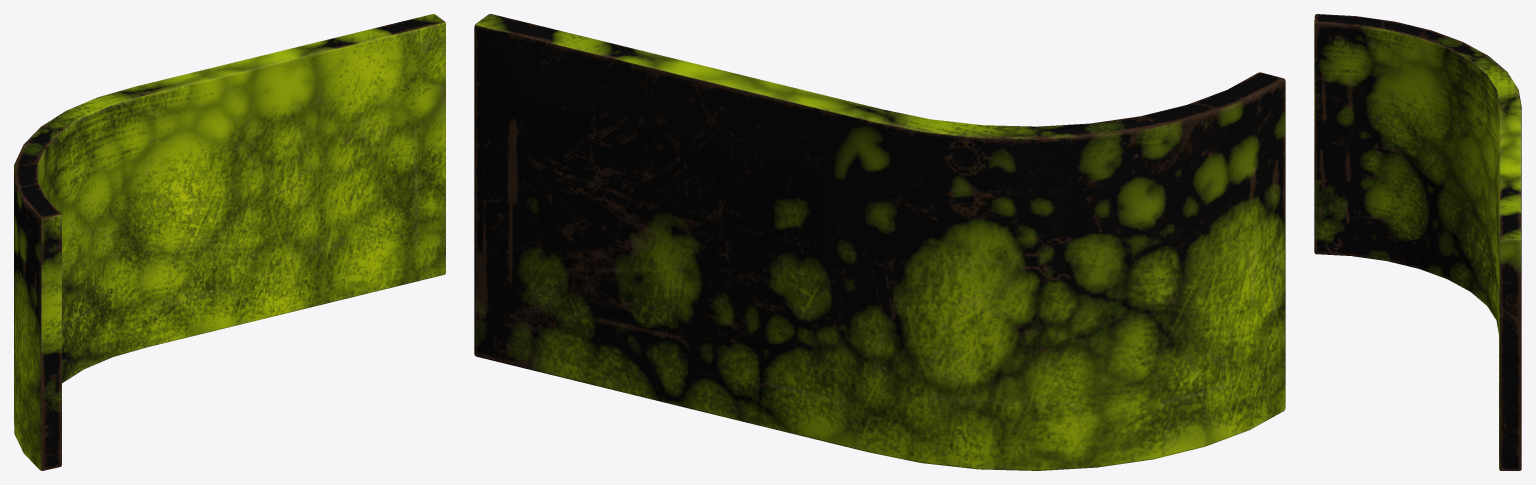
Rendered from geo__curved_wall__low.glb.
The picture shows the model from 3 angles, left to right: view 1: azimuth 30°, elevation 25°; view 2: azimuth 150°, elevation 25°; view 3: azimuth 270°, elevation 25°; orthographic projection. The views are drawn at different scales.
Parts seen in each view (by area): view 1: GEO_CurvedWall_1; view 2: GEO_CurvedWall_1; view 3: GEO_CurvedWall_1.
Part boxes in pixels (left/top/right/bottom): GEO_CurvedWall_1: left=14, top=14, right=445, bottom=470; GEO_CurvedWall_1: left=474, top=14, right=1285, bottom=470; GEO_CurvedWall_1: left=1314, top=14, right=1521, bottom=470.
Bounding box in the file's own units: 2.09 × 1 × 0.8097.
1 material, 1 textured.
